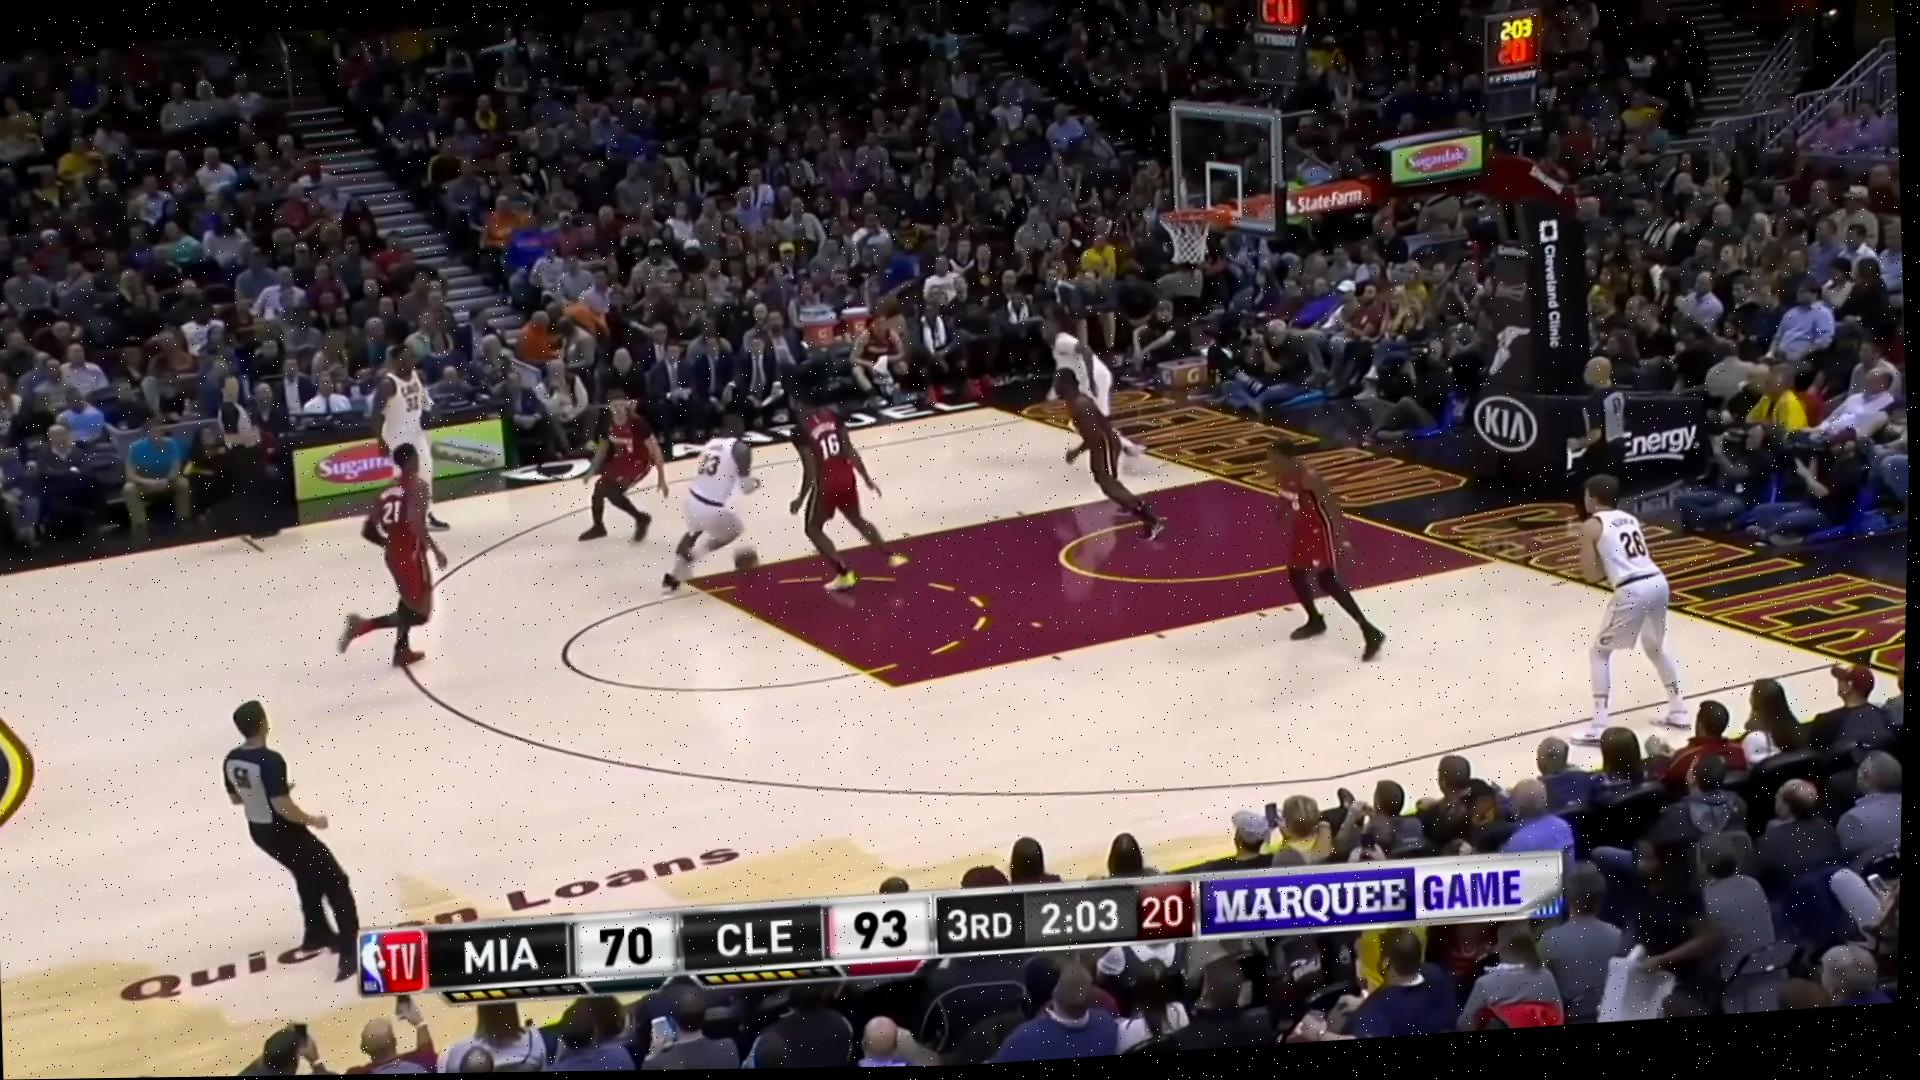no_foul: (642, 389, 919, 613)
